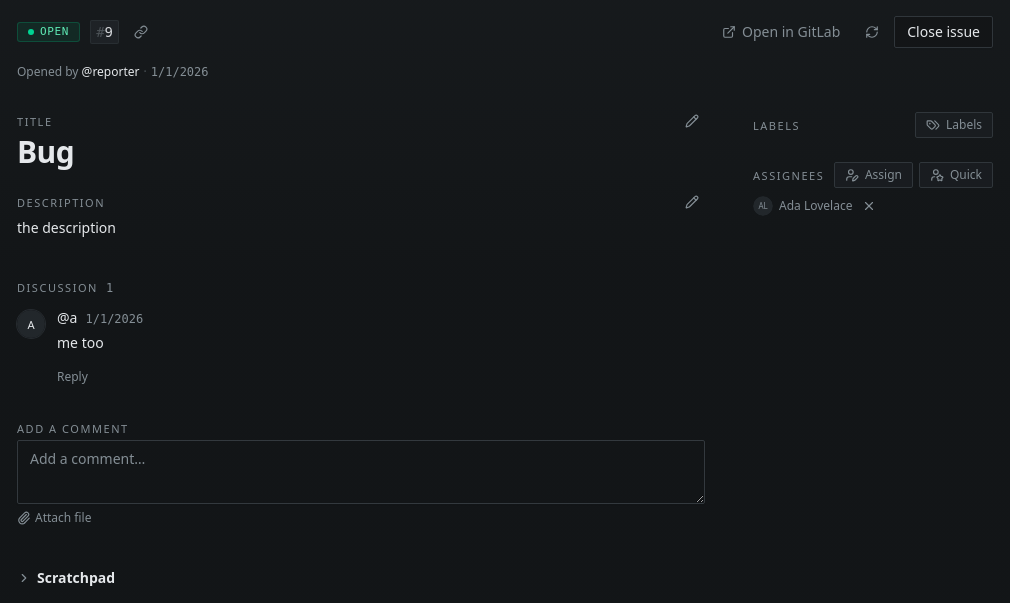
Test: IssueDetail (buffered) › toggling state flips the draft (no immediate mutation)
This screenshot has width=1010, height=603.
Step 1. Click the button with test id "toggle-state" → point(944, 32), box x1=894 y1=16 x2=993 y2=48
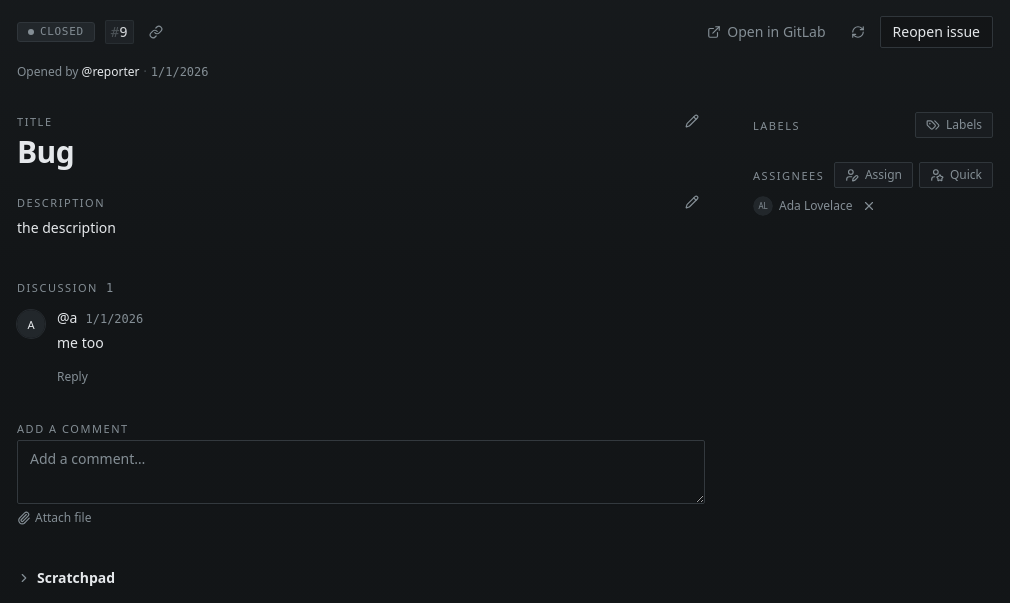
Now the button with test id "toggle-state" shows "Reopen", box x1=880 y1=16 x2=993 y2=48
